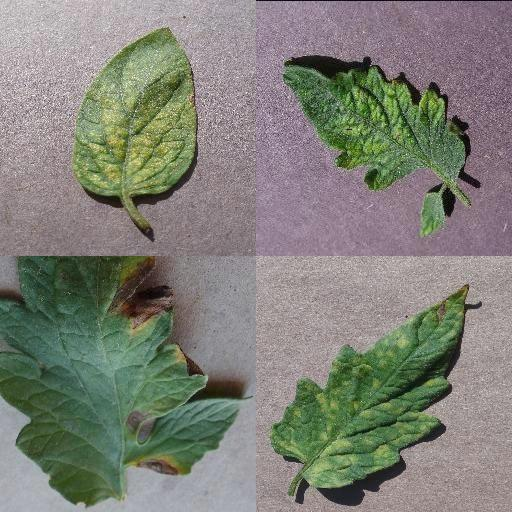Early Blight: (0, 256, 252, 507)
Leaf Mold: (271, 283, 471, 485)
Mosaic Virus: (280, 62, 466, 191), (417, 189, 446, 239)
Spider Mites: (74, 26, 198, 196)
